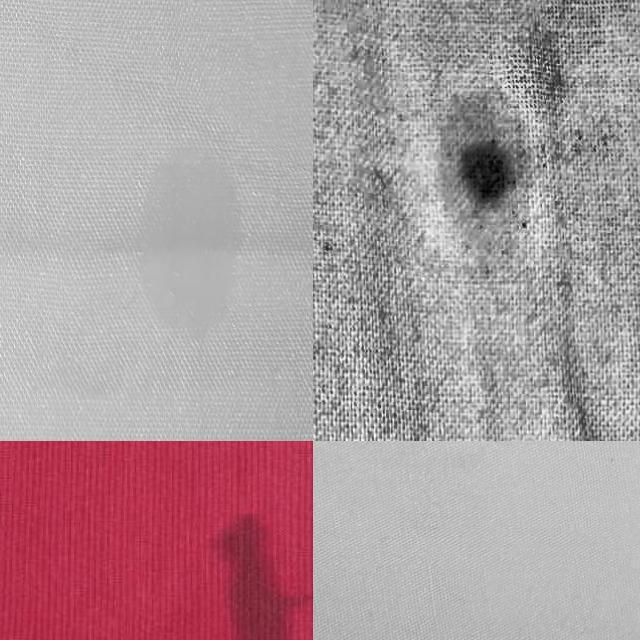Thread_other: (116, 146, 244, 350), (415, 87, 565, 251), (179, 504, 313, 640)
